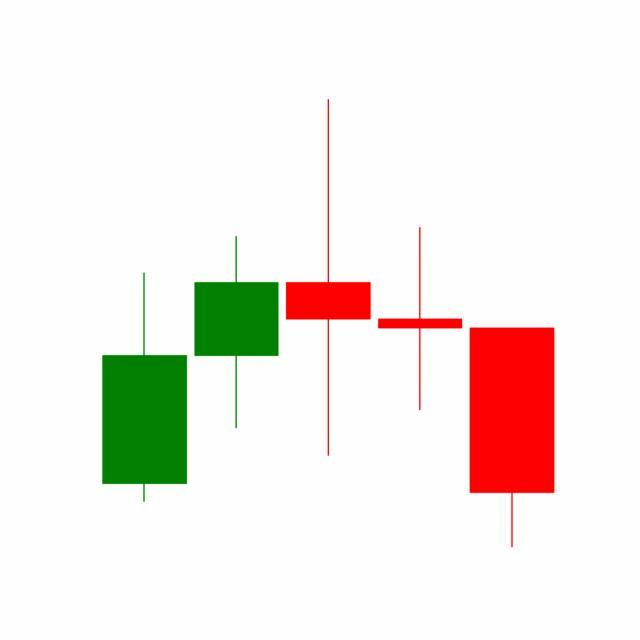Spinning Top: (374, 226, 468, 414)
